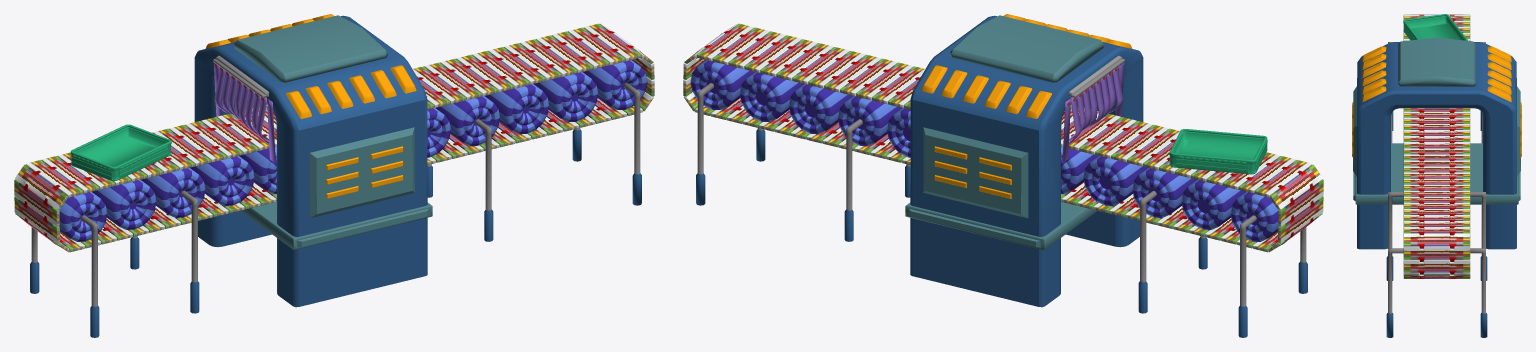
The model's file is Scanner.fbx.
3 views of the same model, side by side, from view 1: azimuth 30°, elevation 25°; view 2: azimuth 150°, elevation 25°; view 3: azimuth 270°, elevation 25° (orthographic). The views are drawn at different scales.
Visible parts, largest first — view 1: Scanner, Belt, Box_Container, Cylinder.011, Cylinder.004, Cylinder.009, Cylinder.003, Cylinder.002, Cylinder.005, Cylinder.010, Cylinder.001, Cylinder.008 (+1 smaller); view 2: Scanner, Belt, Box_Container, Cylinder.011, Cylinder.004, Cylinder.009, Cylinder.003, Cylinder.002, Cylinder.005, Cylinder.010, Cylinder.001, Cylinder.008 (+1 smaller); view 3: Scanner, Belt, Box_Container.
Part boxes in pixels (bbox=[...]): Scanner: bbox=[30, 14, 641, 337]; Belt: bbox=[14, 23, 654, 252]; Box_Container: bbox=[70, 124, 171, 181]; Cylinder.011: bbox=[92, 180, 156, 229]; Cylinder.004: bbox=[485, 84, 549, 133]; Cylinder.009: bbox=[190, 156, 254, 205]; Cylinder.003: bbox=[534, 72, 598, 121]; Cylinder.002: bbox=[583, 60, 647, 109]; Cylinder.005: bbox=[436, 96, 499, 145]; Cylinder.010: bbox=[141, 168, 205, 217]; Cylinder.001: bbox=[59, 192, 107, 241]; Cylinder.008: bbox=[239, 146, 276, 193]; Scanner: bbox=[696, 14, 1307, 337]; Belt: bbox=[683, 23, 1323, 252]; Box_Container: bbox=[1169, 129, 1267, 174]; Cylinder.011: bbox=[1181, 180, 1245, 229]; Cylinder.004: bbox=[788, 84, 852, 133]; Cylinder.009: bbox=[1083, 156, 1147, 205]; Cylinder.003: bbox=[739, 72, 803, 121]; Cylinder.002: bbox=[690, 60, 754, 109]; Cylinder.005: bbox=[838, 96, 901, 145]; Cylinder.010: bbox=[1132, 168, 1196, 217]; Cylinder.001: bbox=[1230, 192, 1278, 241]; Cylinder.008: bbox=[1061, 146, 1098, 193]; Scanner: bbox=[1352, 37, 1521, 337]; Belt: bbox=[1403, 14, 1470, 278]; Box_Container: bbox=[1403, 14, 1467, 40].
Bounding box in the file's own units: 2673 × 914 × 843.
